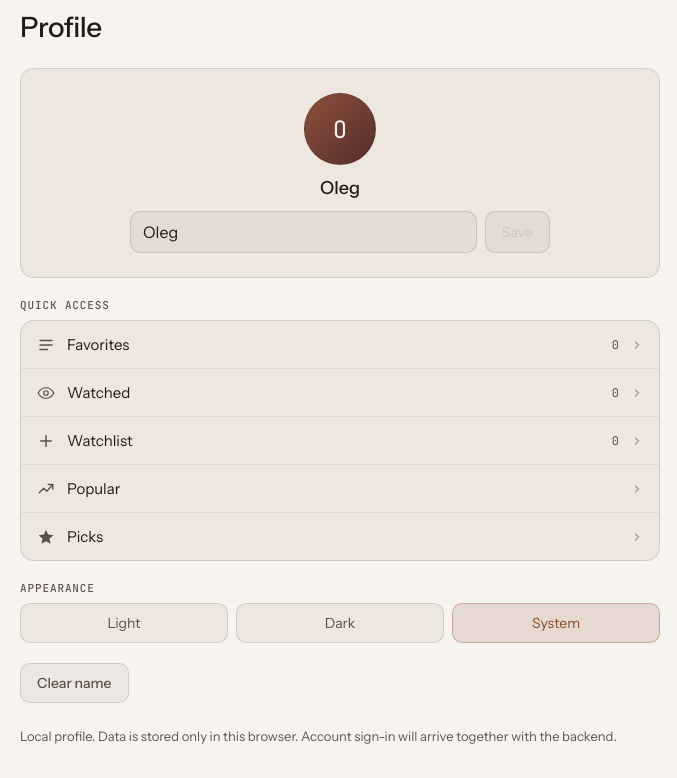
Scenario: Profile › успешный Clear после отказа убирает алерт
The image size is (677, 778).
Click the button "Clear name": (74, 683) [20, 663, 129, 703]
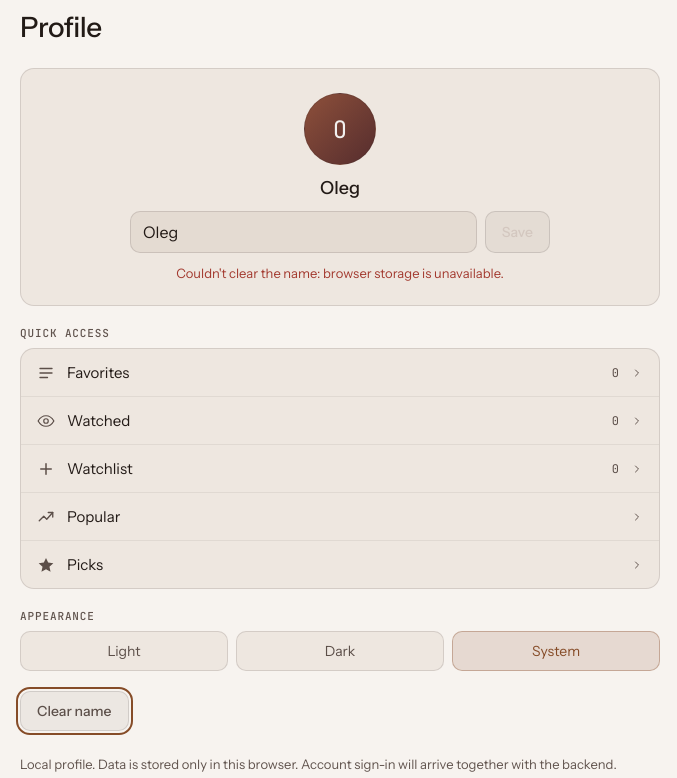
Result: the message "Couldn't clear the name: browser storage is unavailable." is shown at [176, 265, 504, 281]
Click the button "Clear name": (74, 711) [20, 691, 129, 731]
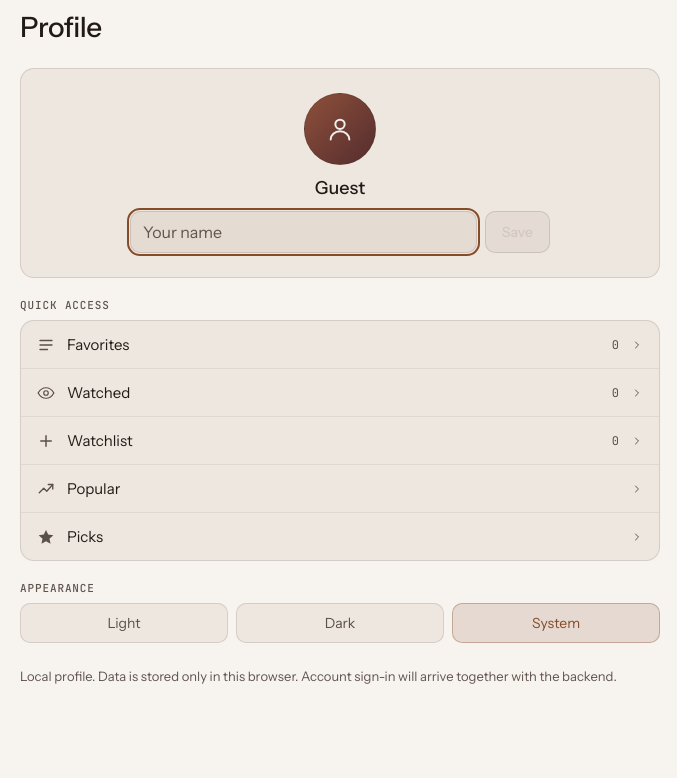
Result: the message "Couldn't clear the name: browser storage is unavailable." is gone
Result: the text "Guest" is shown at [315, 177, 365, 199]
